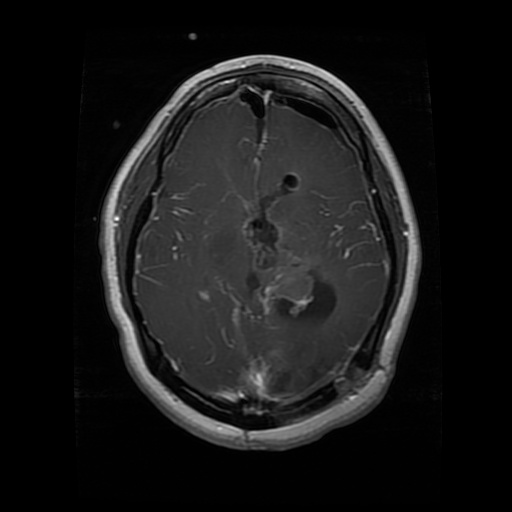glioma: (235, 171, 339, 325)
